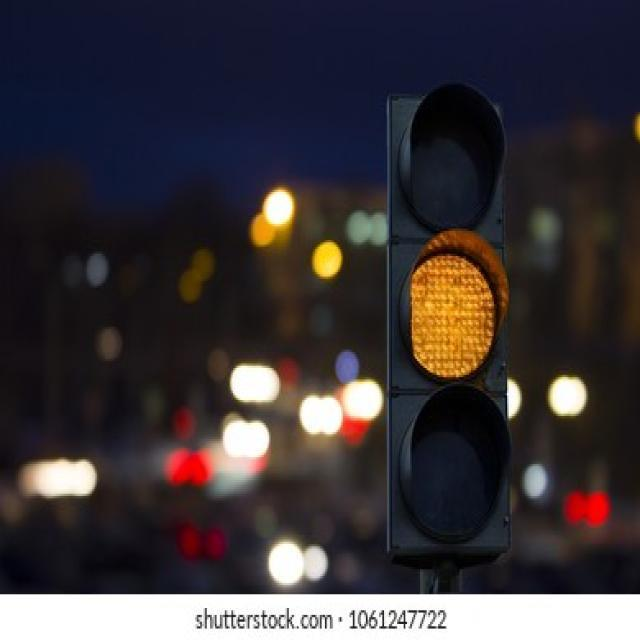yellow_light: (386, 81, 508, 589)
